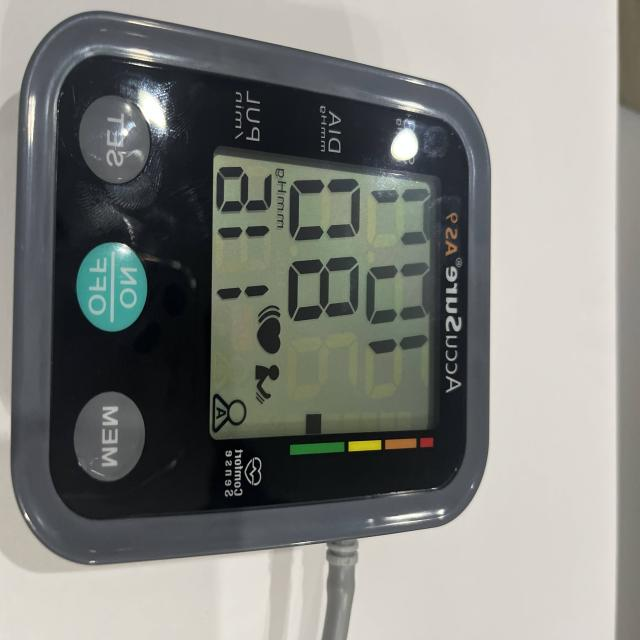bp: (8, 11, 493, 572)
